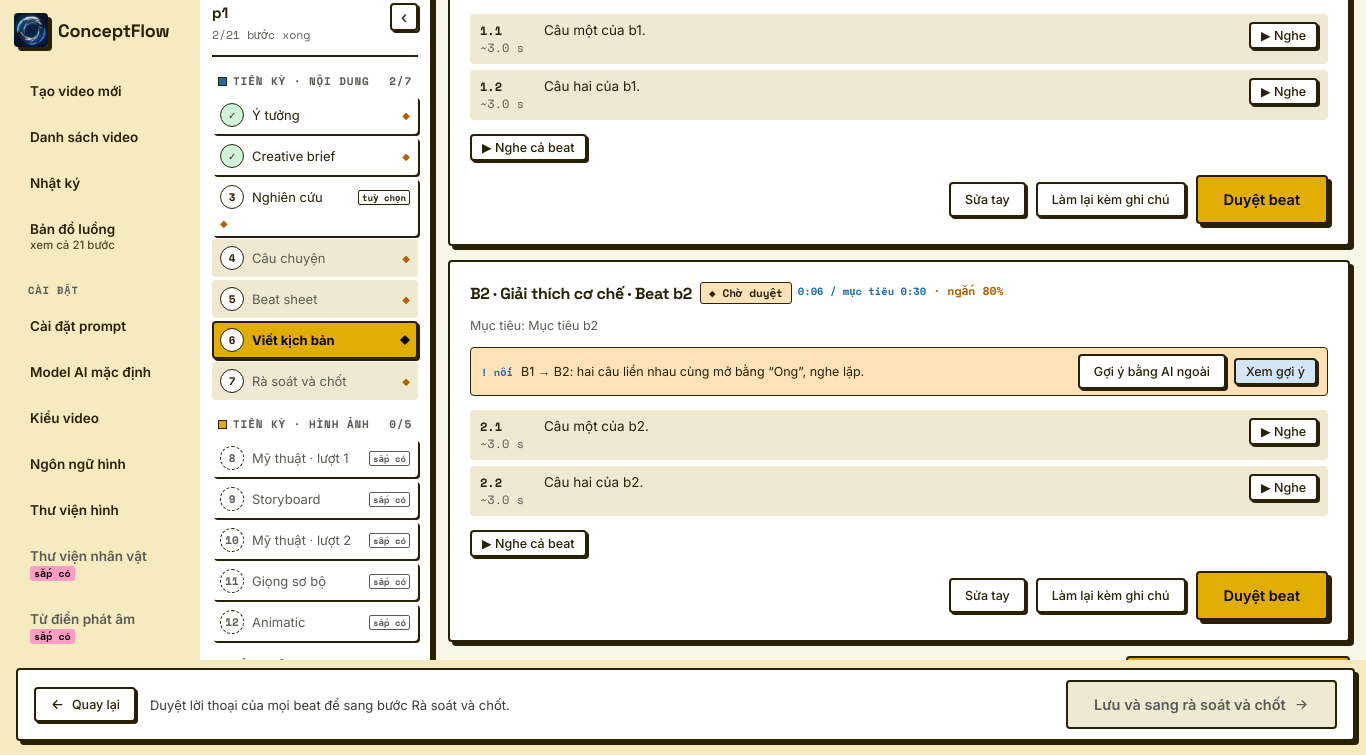
ScriptWriteStepPage › offers a suggestion for a join that does not read well
(page scrolled)
Click the button with test id "script-ask-join-b2.1".
click(1275, 372)  # box [1234,358,1317,385]
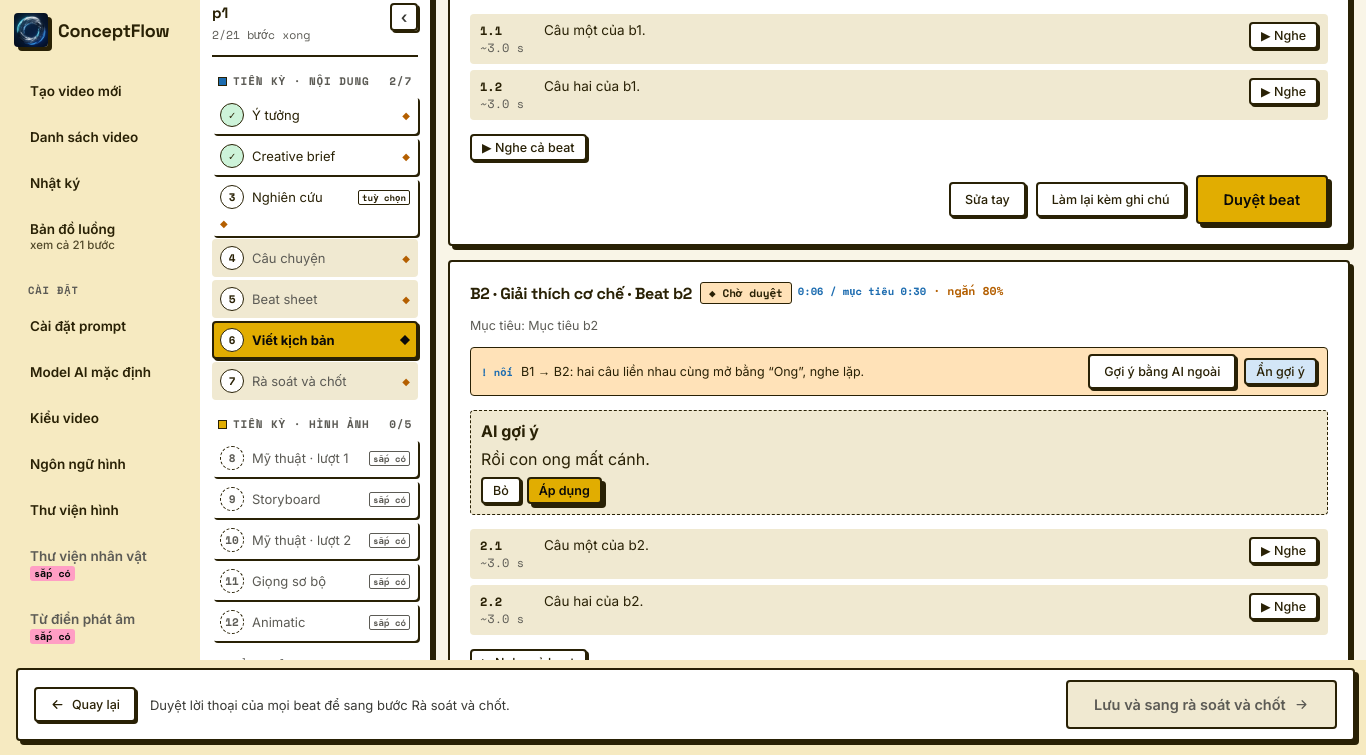
Expected: the element with test id "script-suggestion-b2.1" shows "Rồi con ong mất cánh.", [481,449,650,469]
